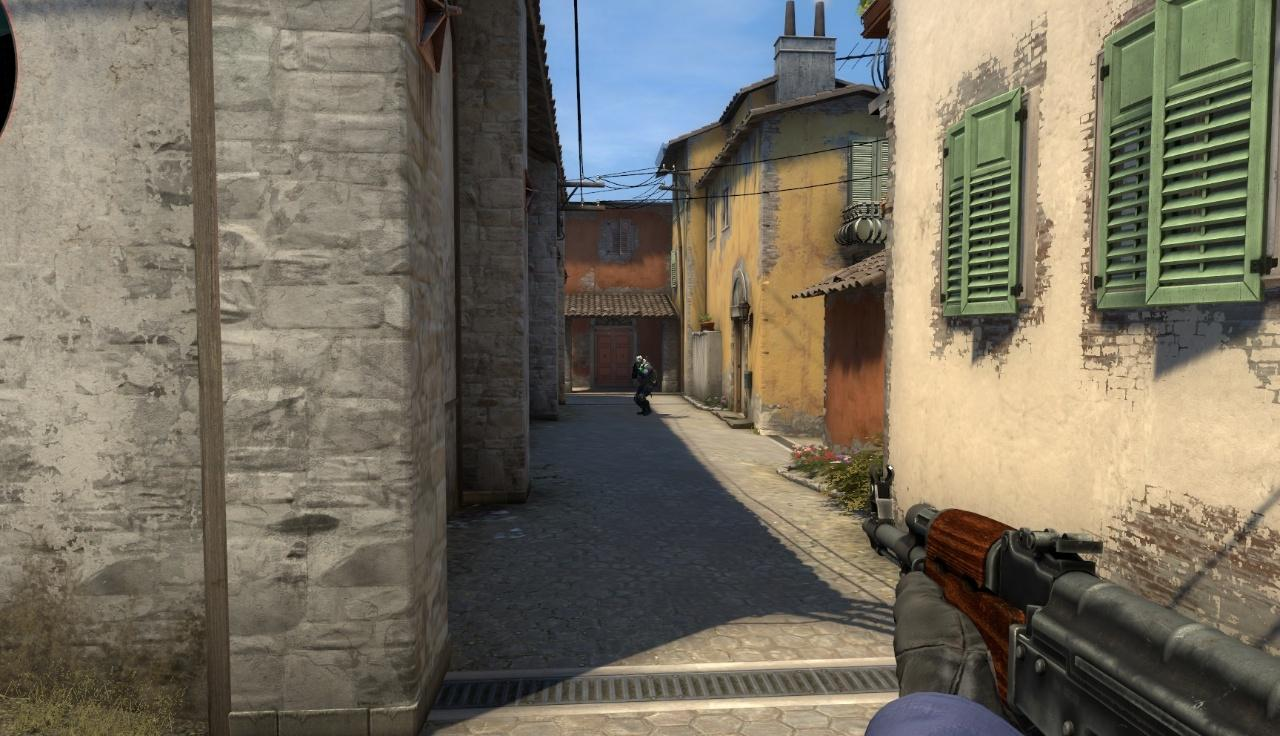ct: (632, 355, 656, 416)
cthead: (635, 356, 643, 367)
rifle: (864, 464, 1280, 736)
